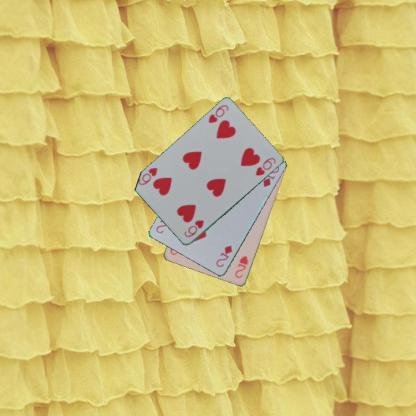2d: (214, 242, 234, 268)
2h: (232, 253, 250, 280)
6h: (206, 102, 229, 125), (182, 217, 205, 239)
